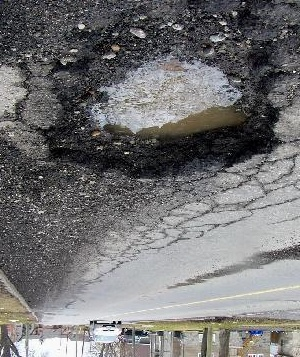pothole: (43, 0, 285, 182)
